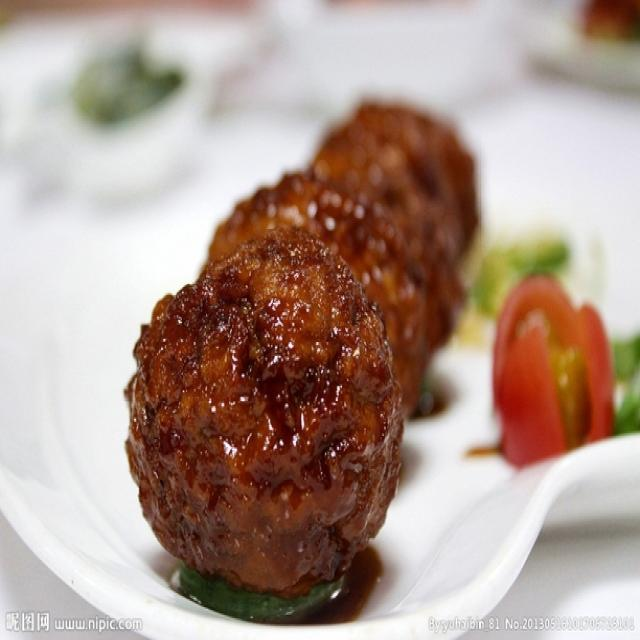Meatball: (117, 218, 411, 599)
